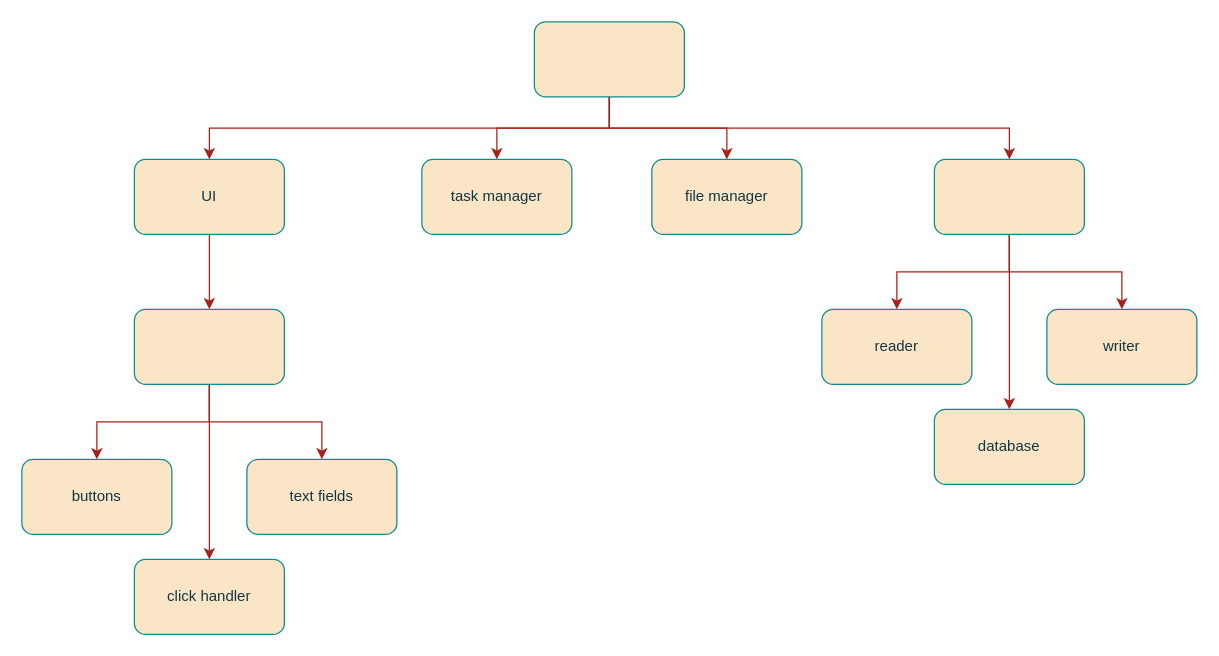
This 1219x656 diagram has some shape labels left out. Each missing label, with the centre of its shape:
"main" goes at [608,59].
"parser" goes at [1008,196].
"windows" goes at [208,346].
